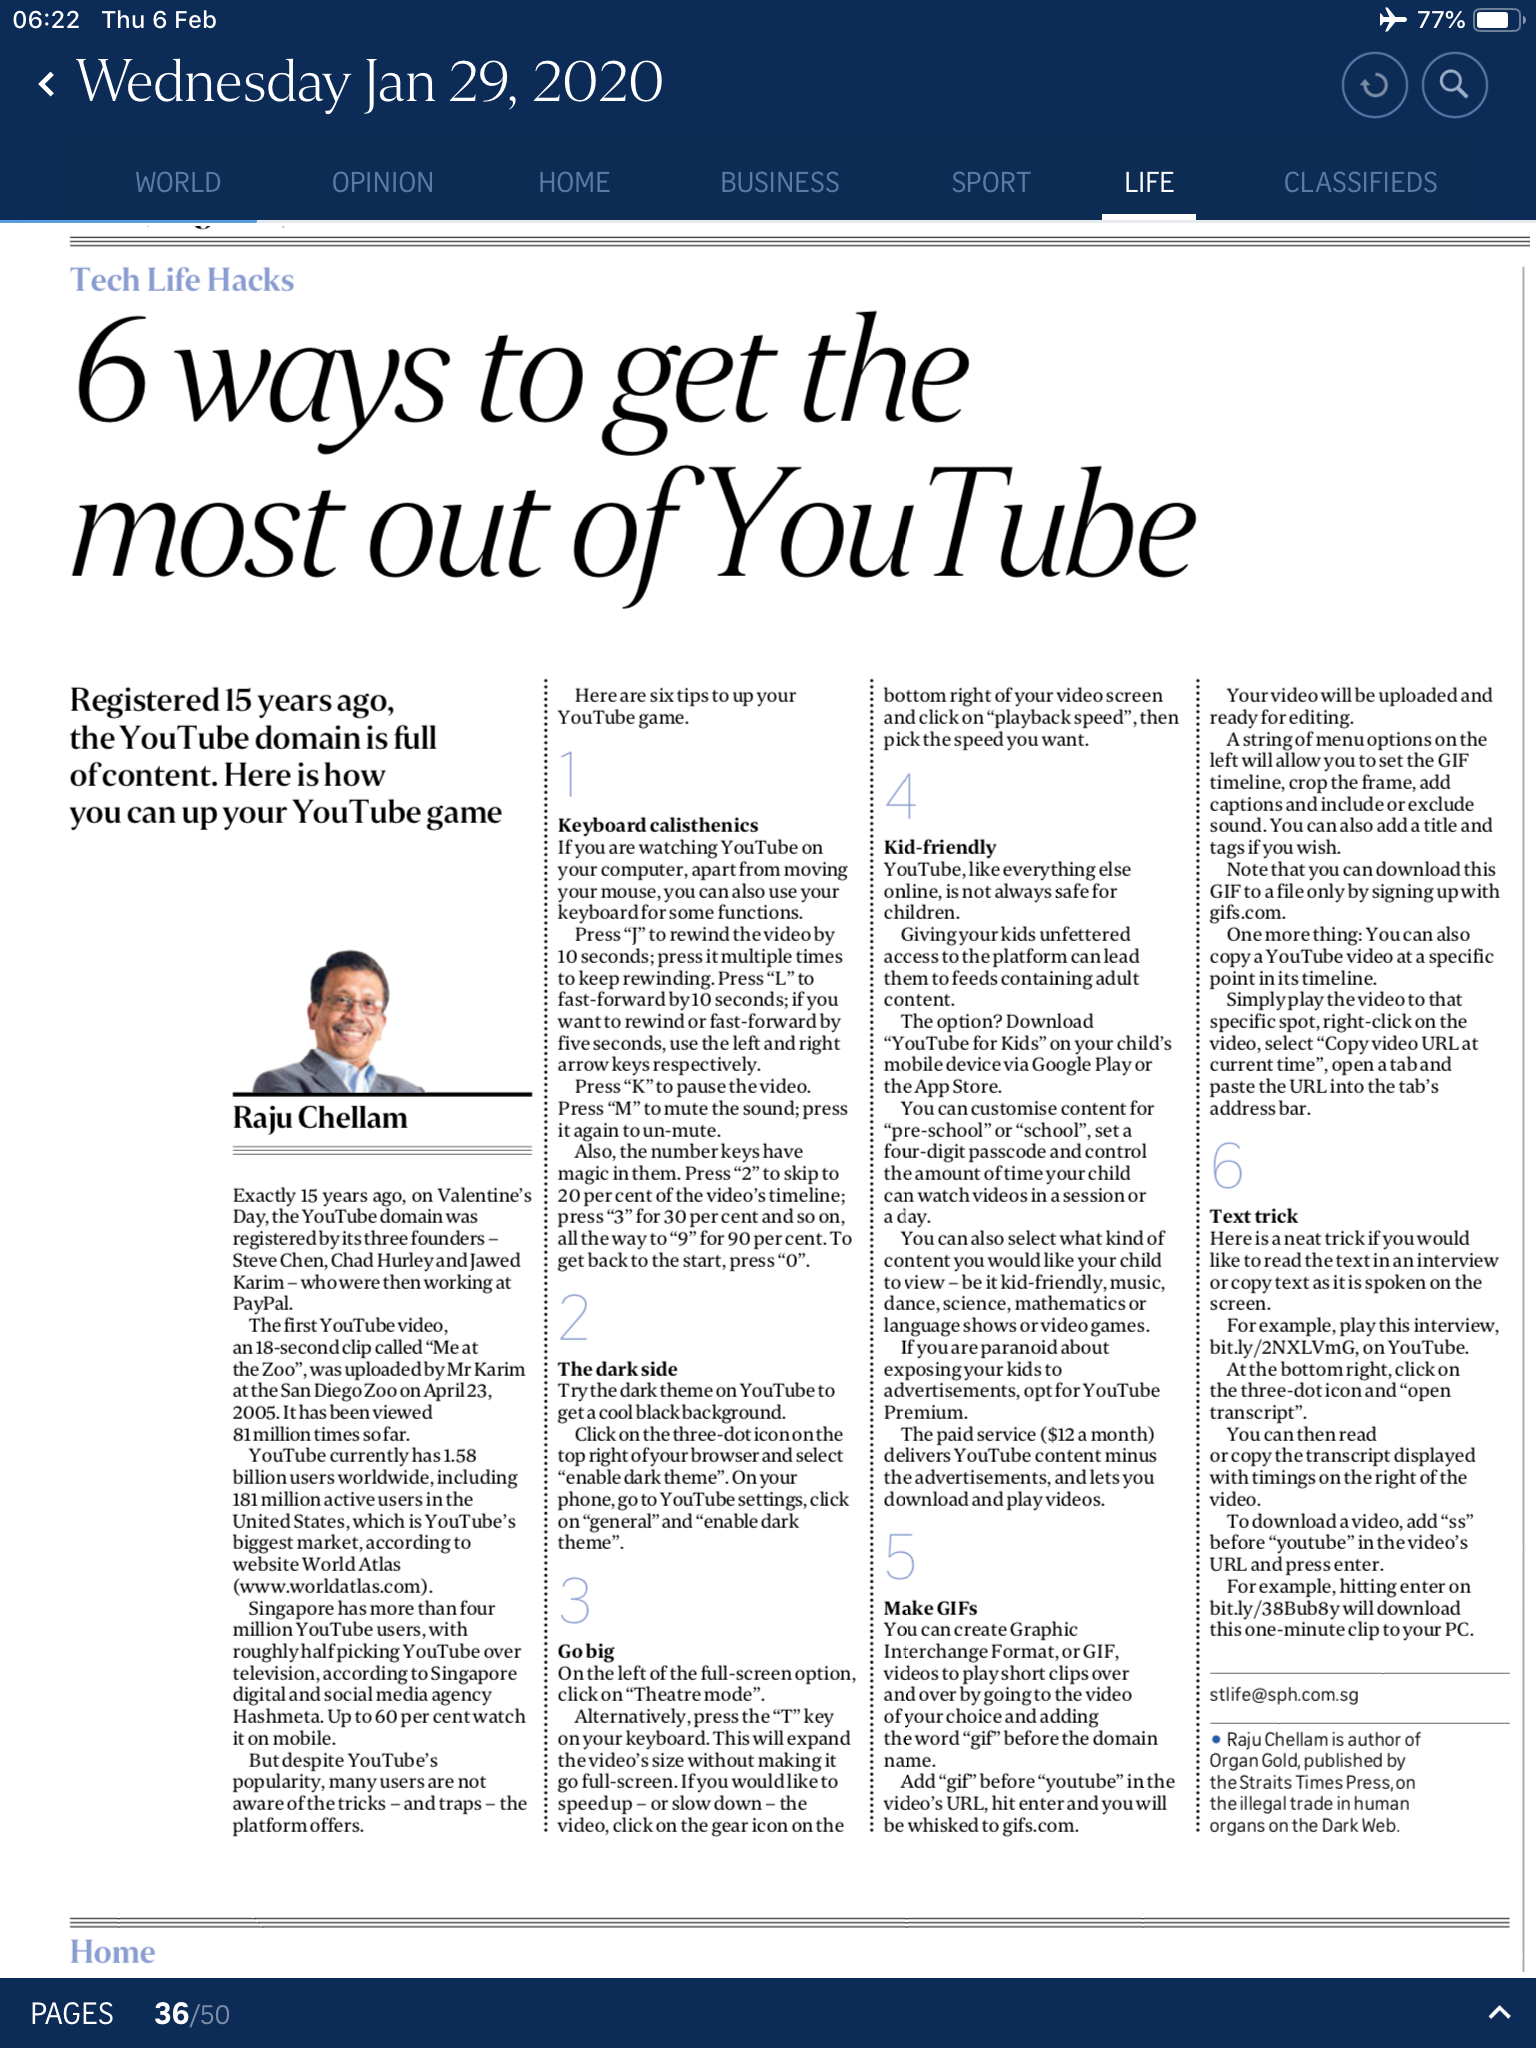Byline: (227, 1103, 413, 1134)
Headline: (73, 314, 1200, 585)
Image: (248, 935, 434, 1097)
Text: (553, 685, 850, 1842), (879, 685, 1176, 1842), (1205, 684, 1501, 1643), (232, 1185, 529, 1838)
